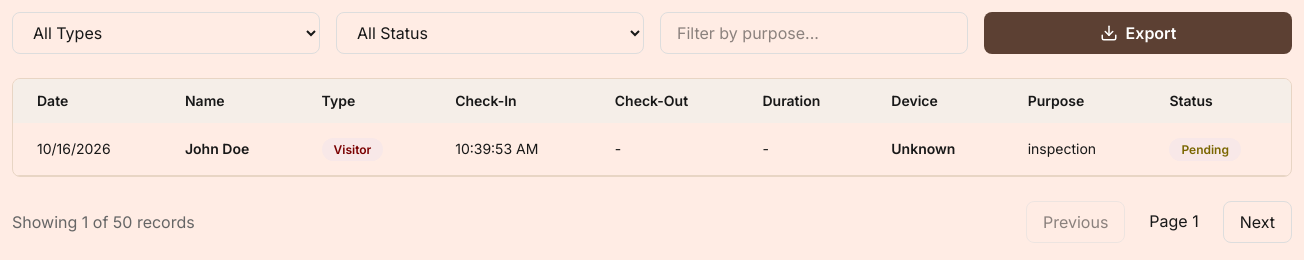
Scenario: Attendance Logs Tab › Pagination › should allow changing page
Check: the text "John Doe" is shown, box [161,123,298,176]
Step 1. Click the button "Next" → {"x": 1257, "y": 222}, box [1223,201,1292,243]
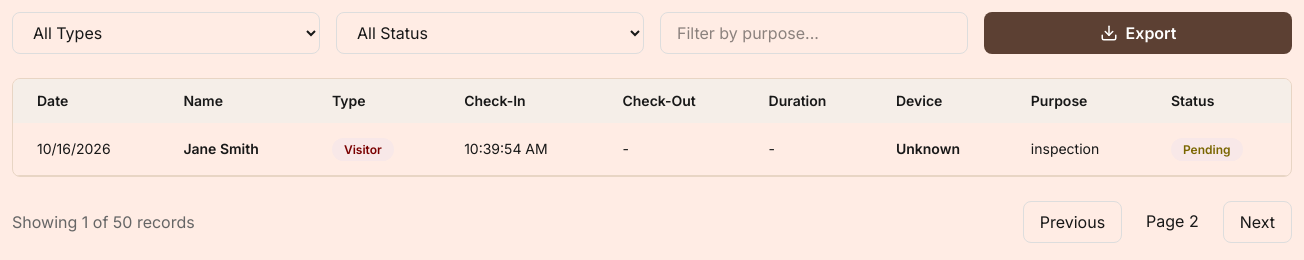
Check: the text "Jane Smith" is shown, box [159,123,308,176]
